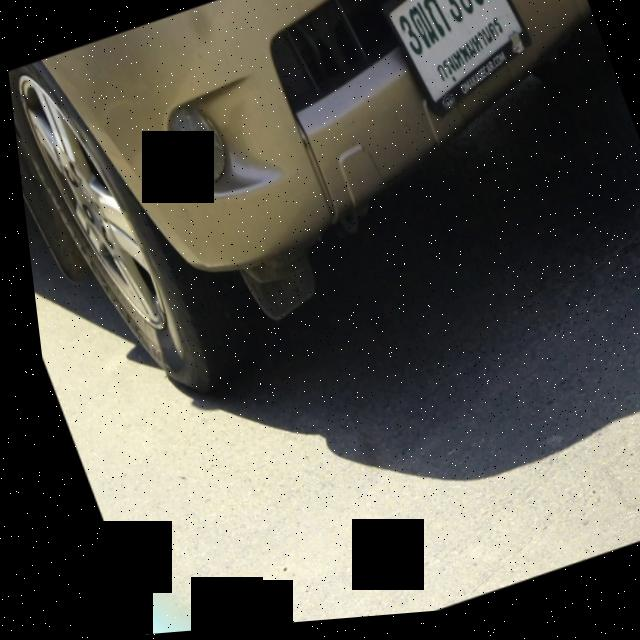text: (389, 0, 520, 107)
